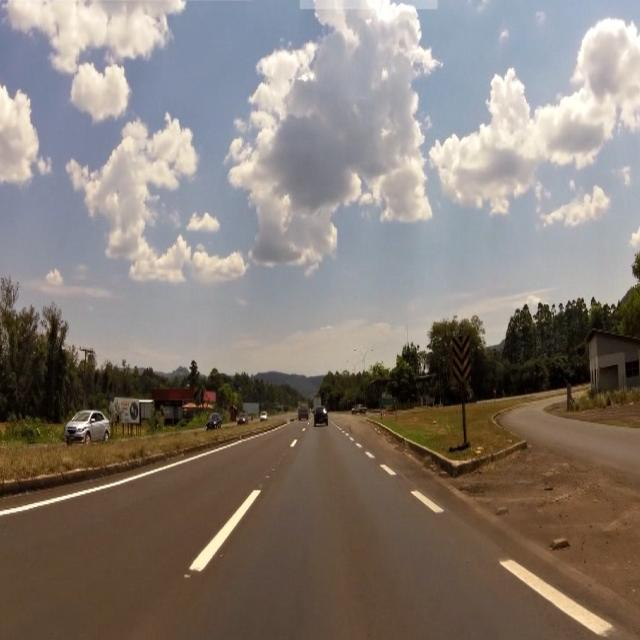MO: (451, 332, 475, 391)
